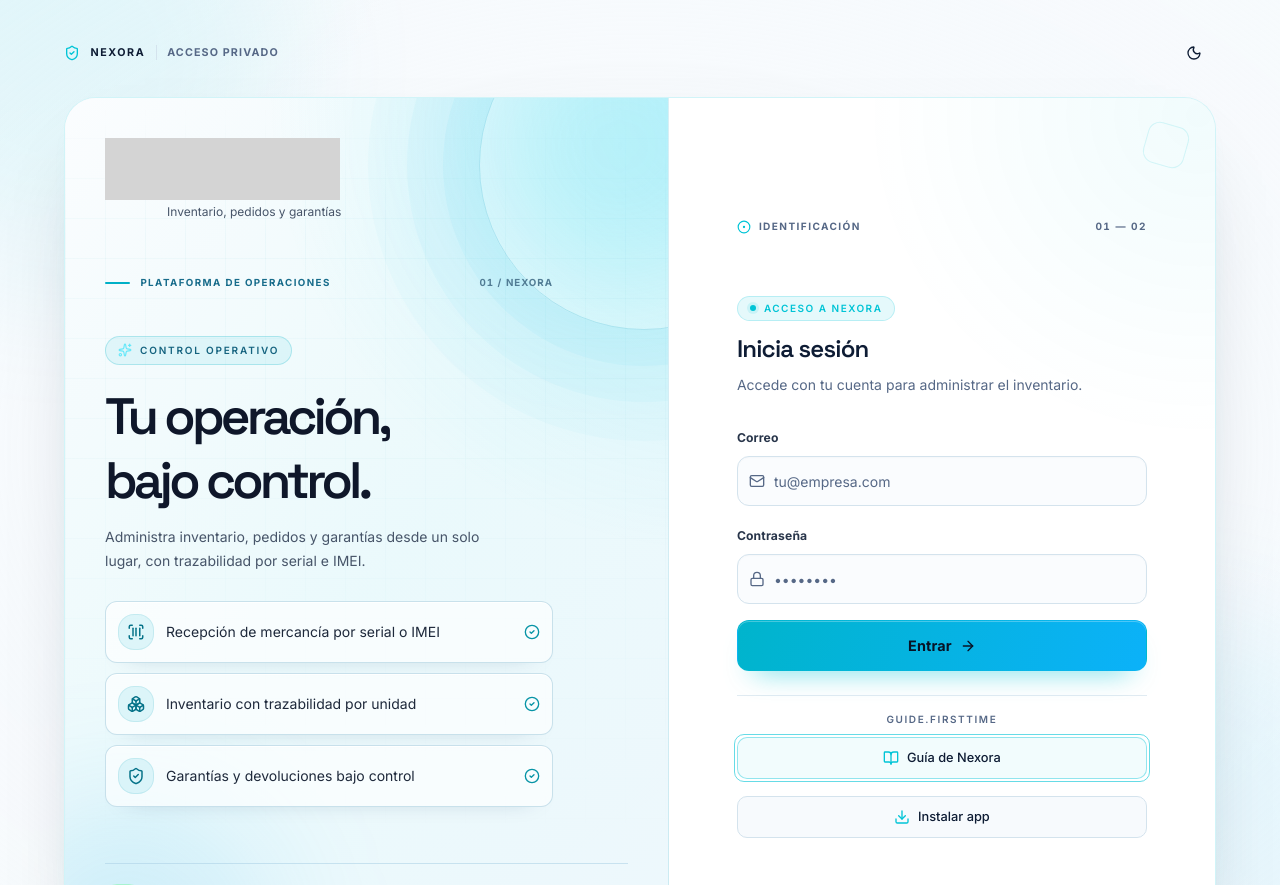
Login · al entrar bien, pasa a la app (con la animación cuando el navegador la soporta) › con credenciales incorrectas, se queda en el login (no navega)
Type "bod@x.com" into the field labelled "Correo" at (942, 481), box [737,456,1147,506]
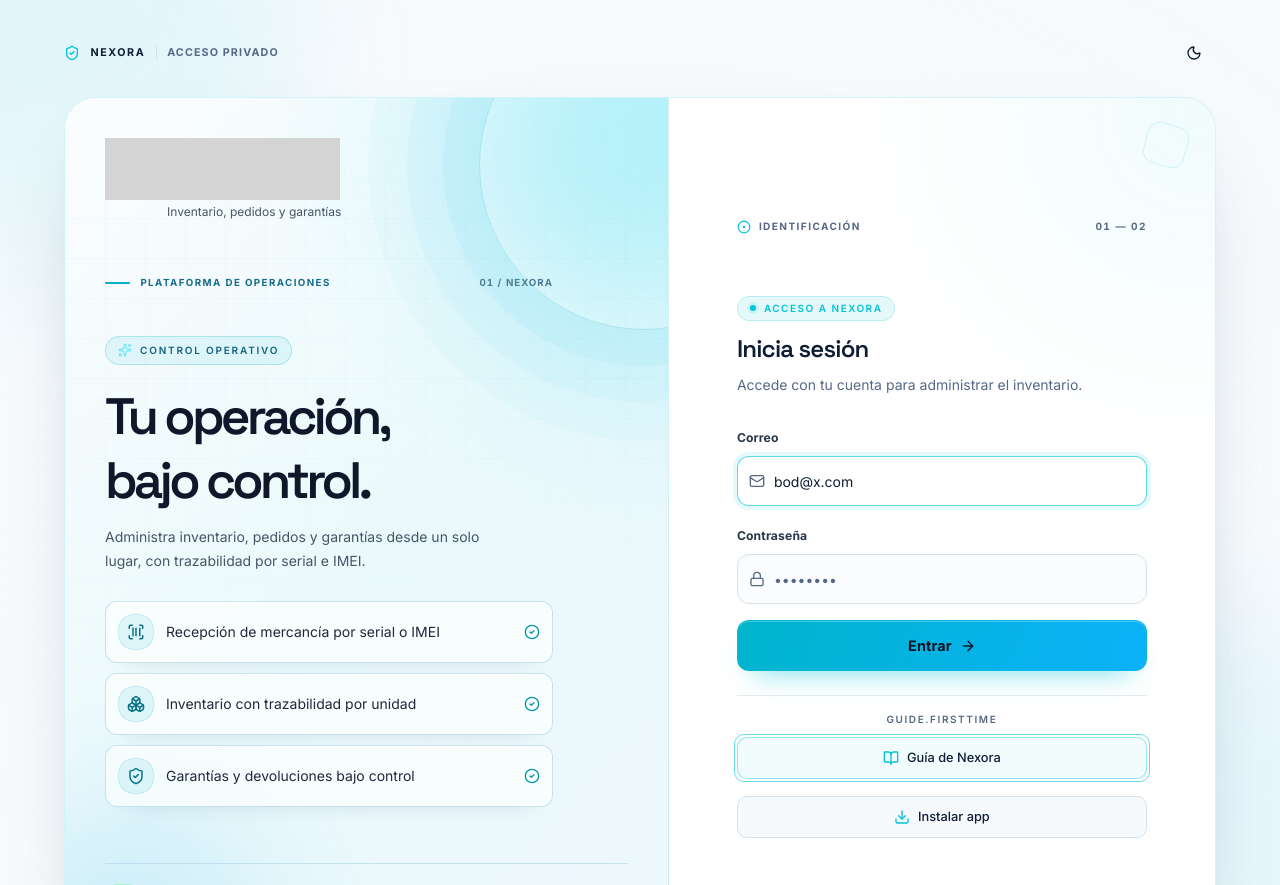
Type "mala" into the password field labelled "Contraseña" at (942, 579), box [737,554,1147,604]
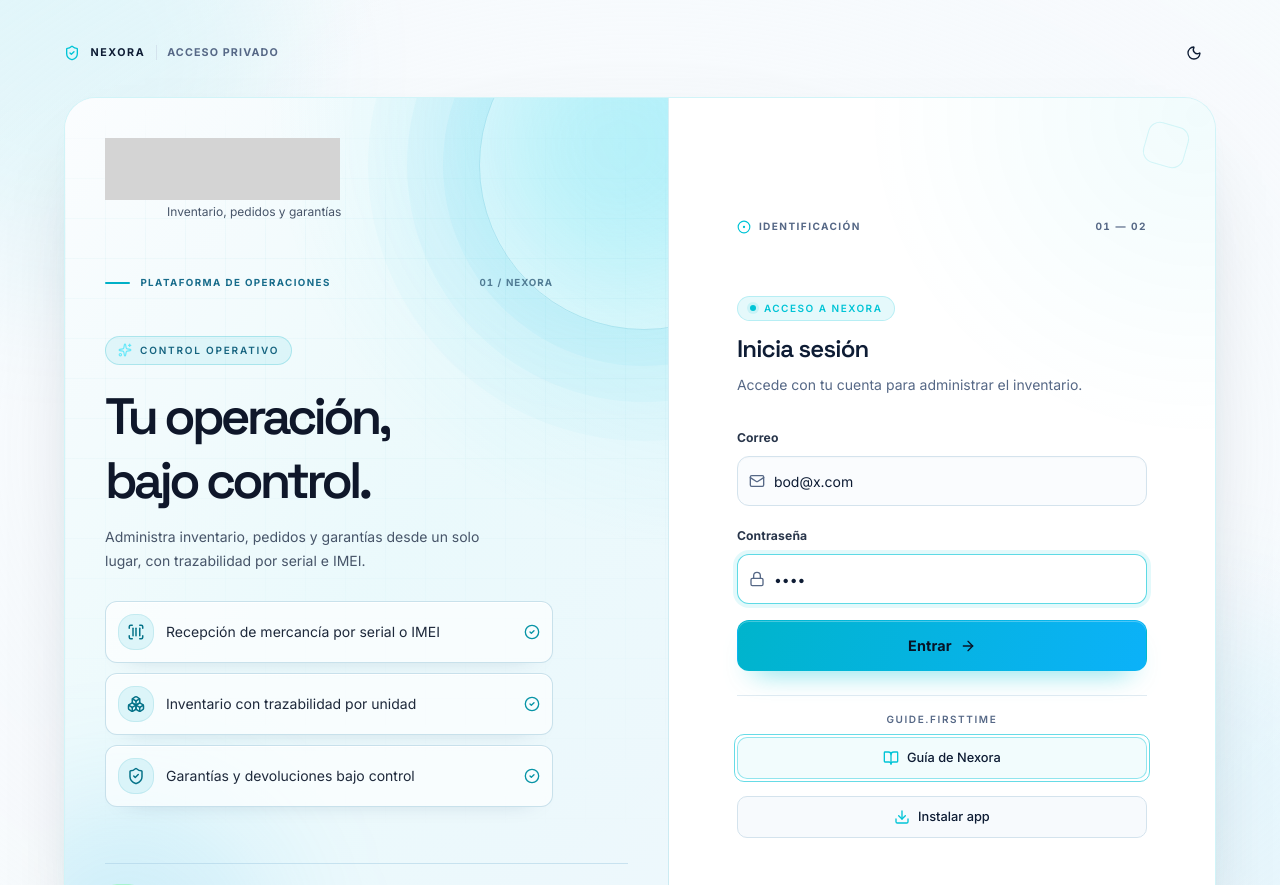
Click the button "Entrar" at (942, 646), box [737,620,1147,671]
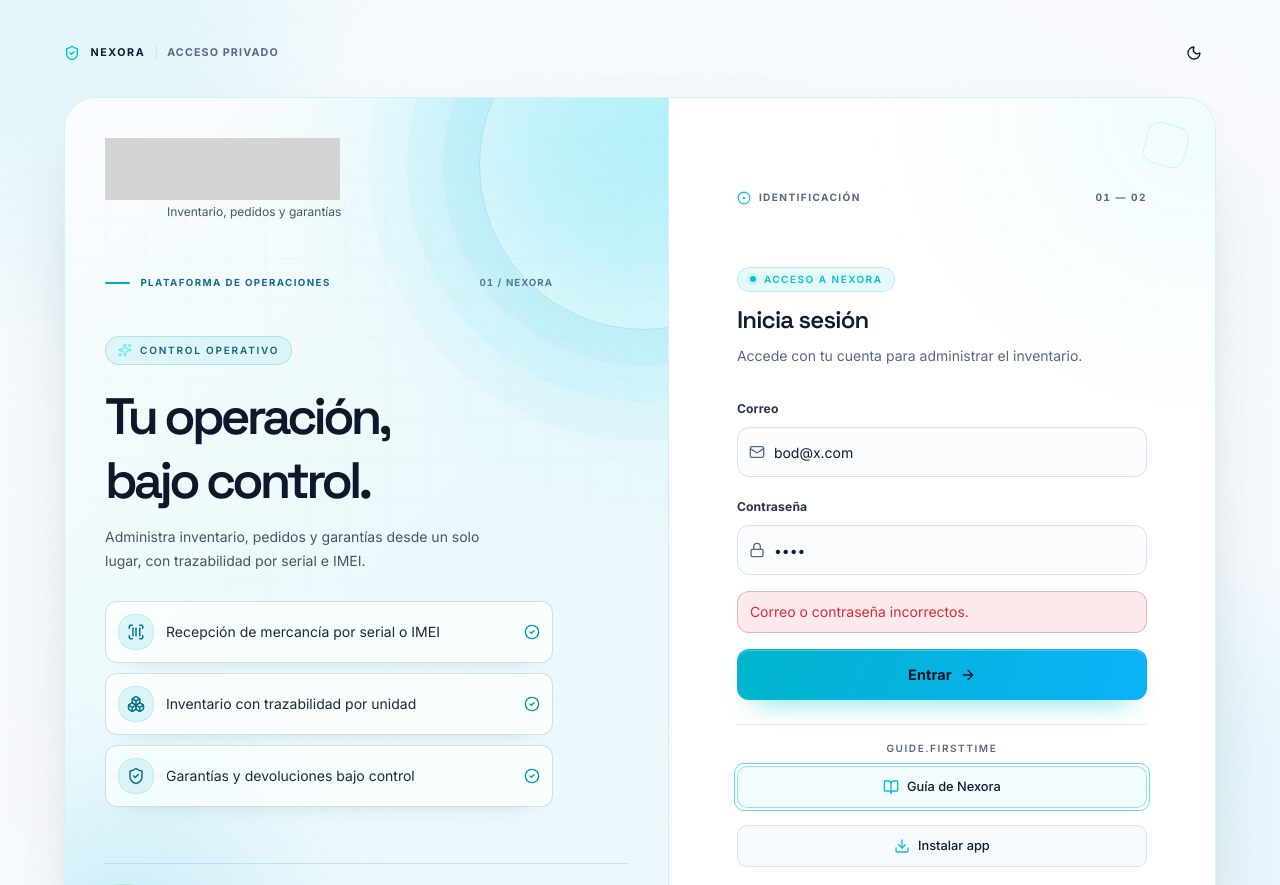
Expected: the text "Correo o contraseña incorrectos." is shown, [737,591,1147,633]
